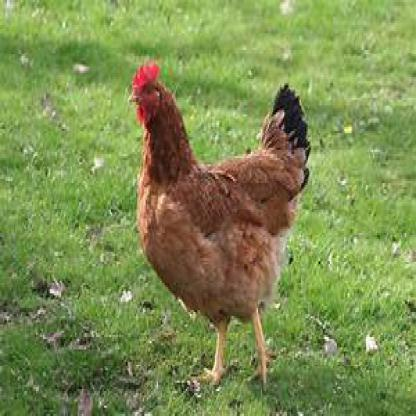chicken: (125, 71, 308, 385)
